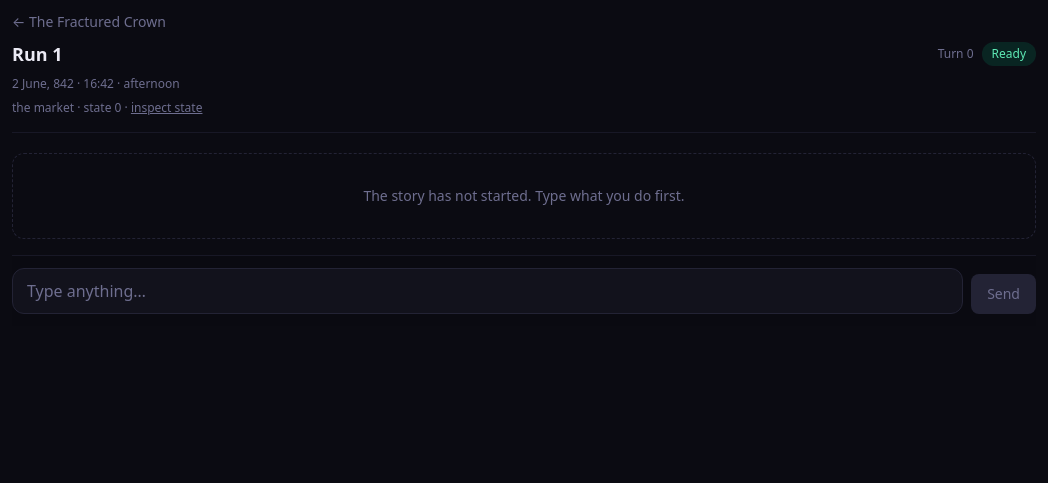
SessionPage › reports an unreachable backend distinctly from a rejected request
expect the heading "Run 1" is shown: met, box 12,40 -> 62,68
In the text box with placeholder "Type anything…": (488, 291) 12,268 -> 963,314, type "I greet Elena"
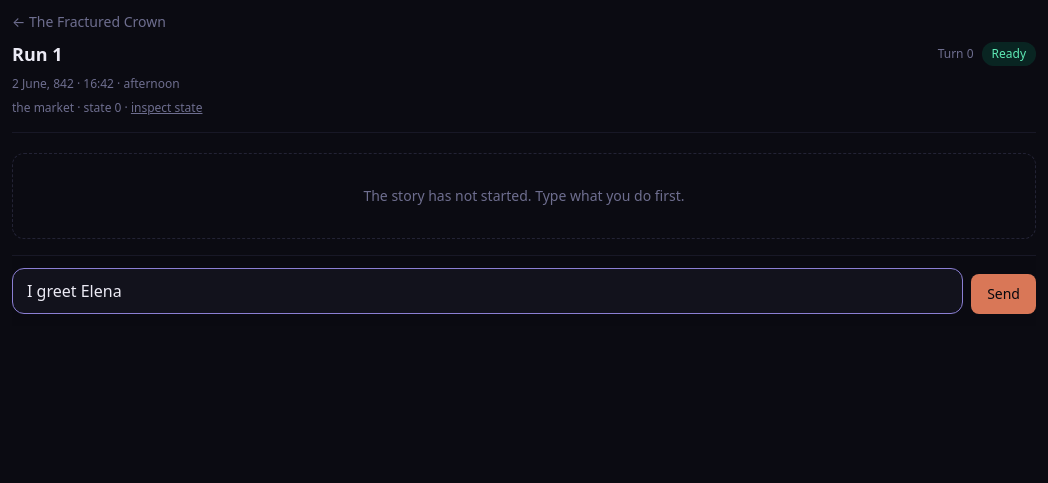
Click the button "Send": click(1004, 294) 971,274 -> 1036,314
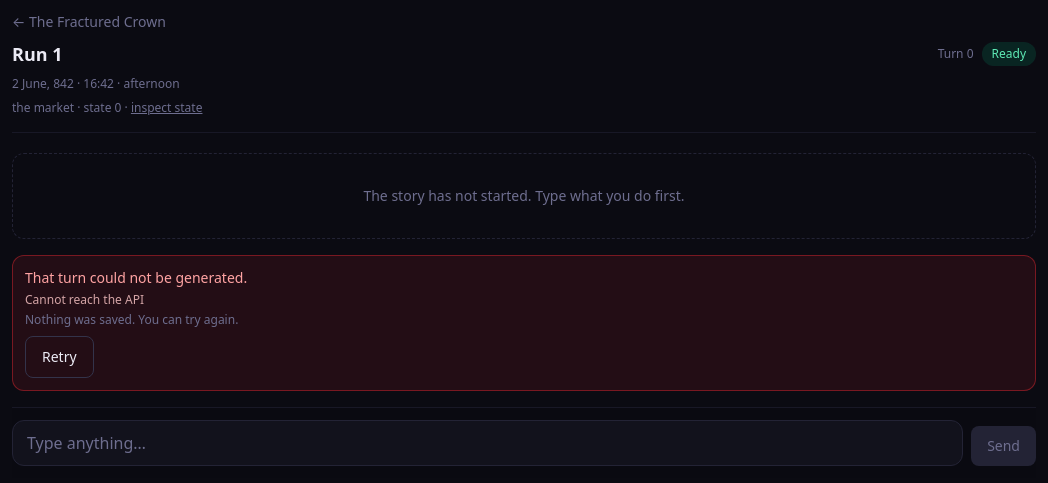
expect the message shows "Cannot reach the API": met, box 25,291 -> 144,308
